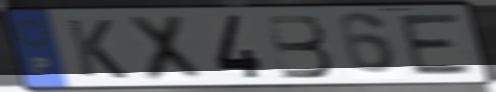4: (212, 13, 265, 82)
6: (340, 9, 400, 82)
B: (263, 12, 337, 81)
E: (396, 11, 479, 78)
K: (63, 17, 131, 81)
X: (124, 13, 206, 83)
